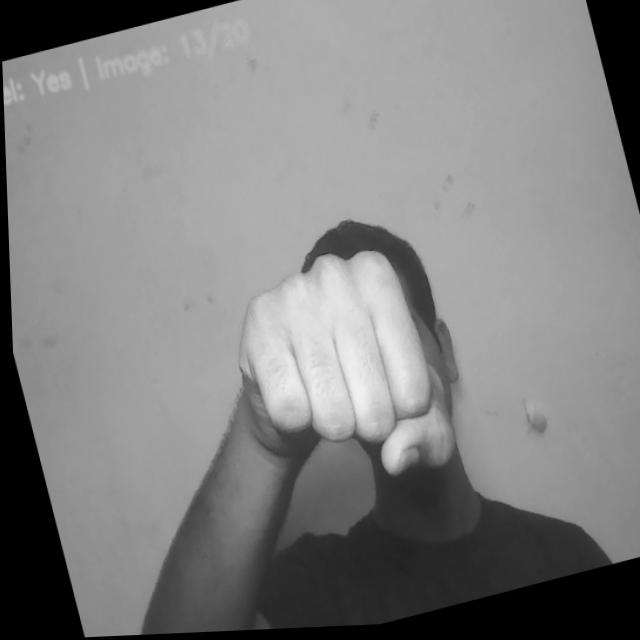Yes: (210, 233, 461, 519)
